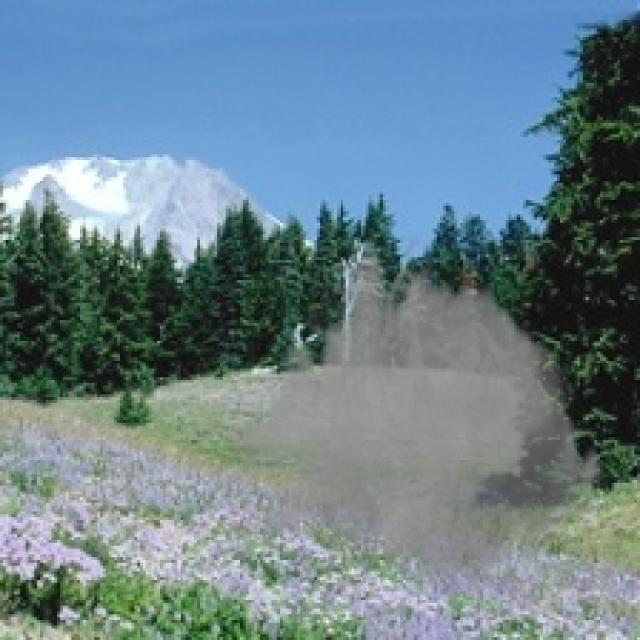smoke: (223, 232, 606, 632)
